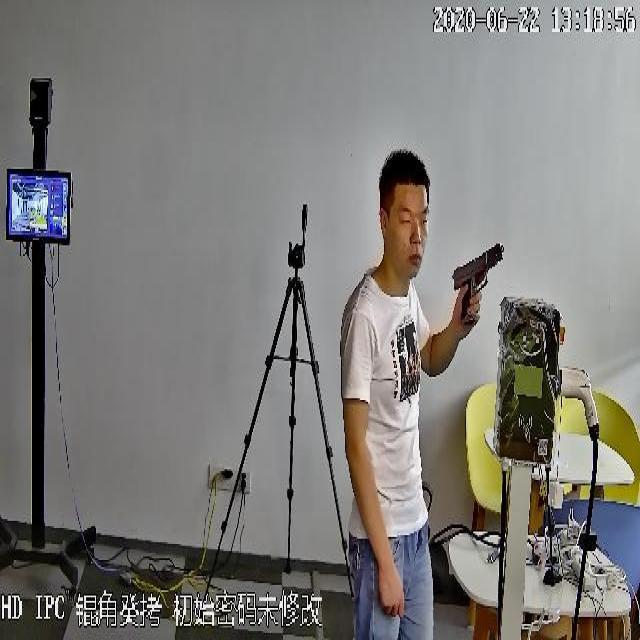pistol: (451, 239, 507, 333)
